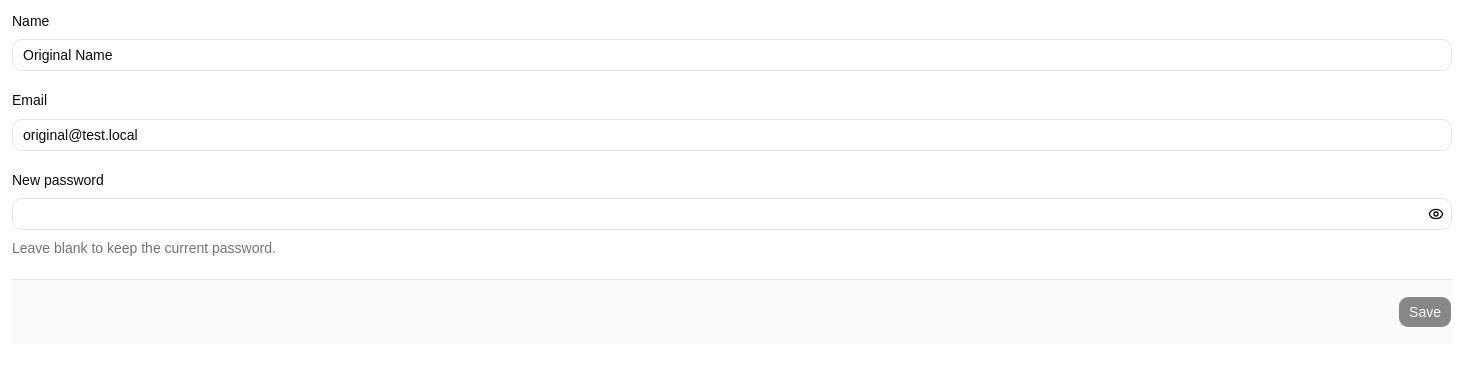
Test: EditUserForm — when the server refuses › shows a generic message when the request fails for another reason
This screenshot has width=1464, height=384.
Replace the text in the field labelled "Name" with "Renamed" at {"x": 732, "y": 55}, box [12, 39, 1452, 71]
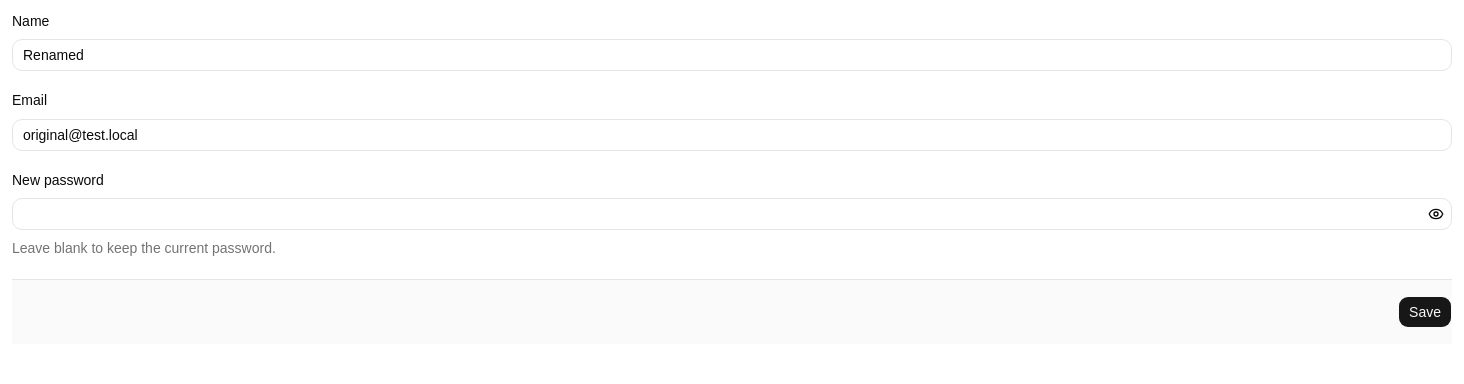
Click the button "Save" at {"x": 1425, "y": 312}, box [1398, 296, 1452, 328]
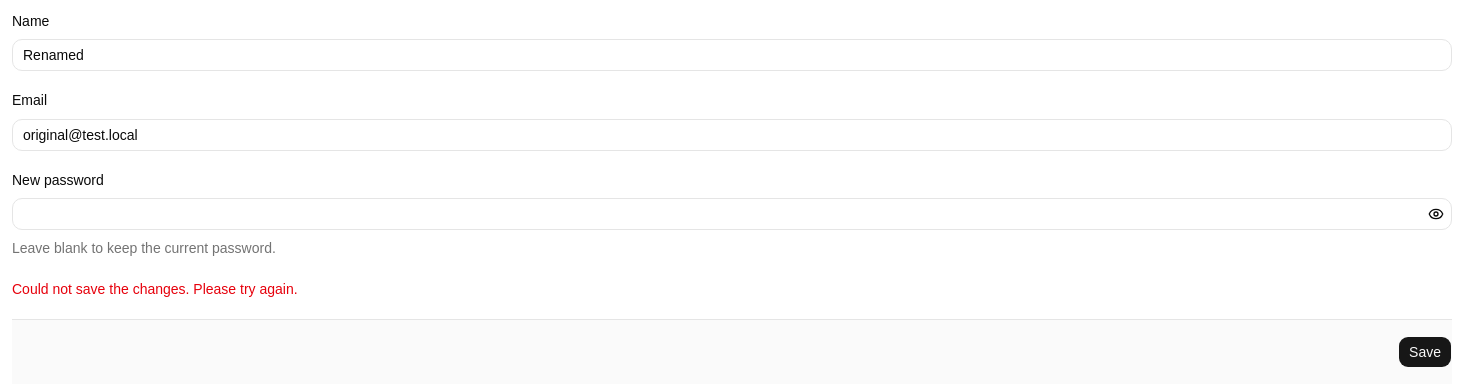
Now the text "Could not save the changes. Please try again." is shown, box [12, 281, 298, 297]
